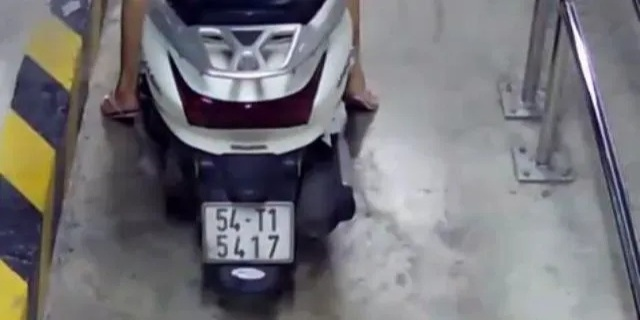bien_so: (203, 202, 295, 264)
